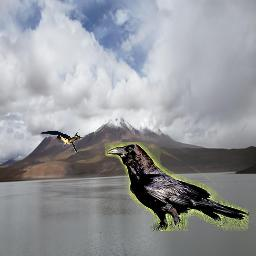Crow: (105, 142, 249, 231)
Swallow: (39, 128, 92, 156)
